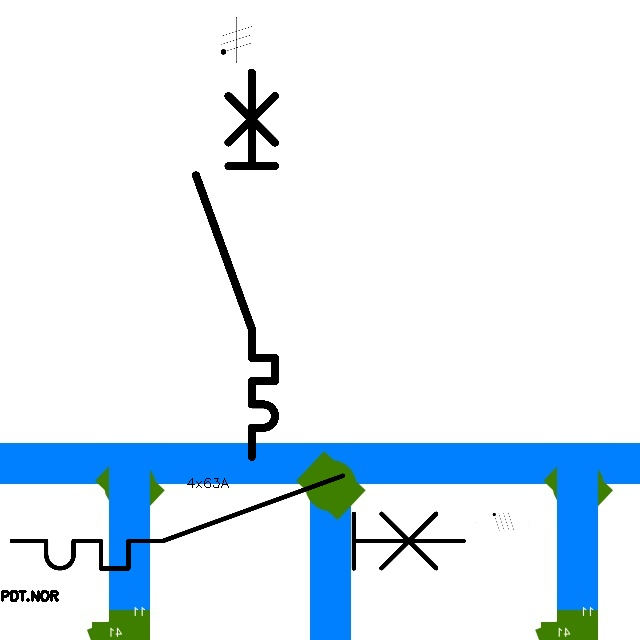interruptor_termomagnetico: (0, 464, 475, 580), (186, 62, 285, 466)
